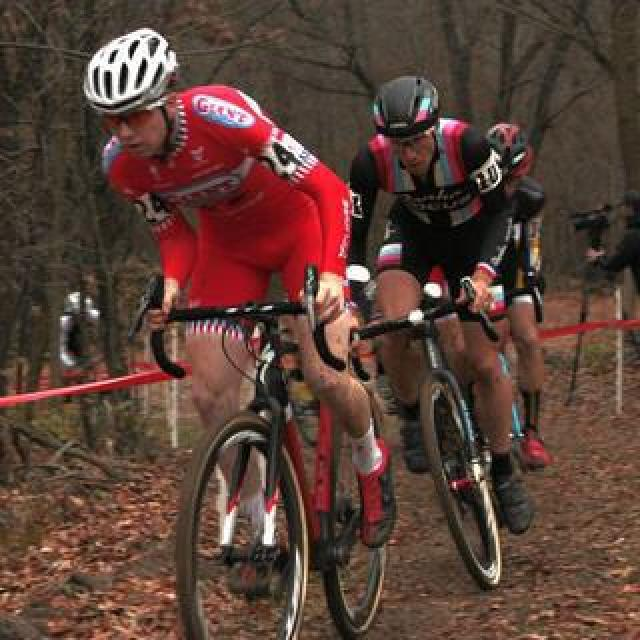MC-Bike: (102, 50, 370, 636), (348, 84, 554, 514)
Person: (168, 294, 392, 640), (354, 266, 524, 604)
